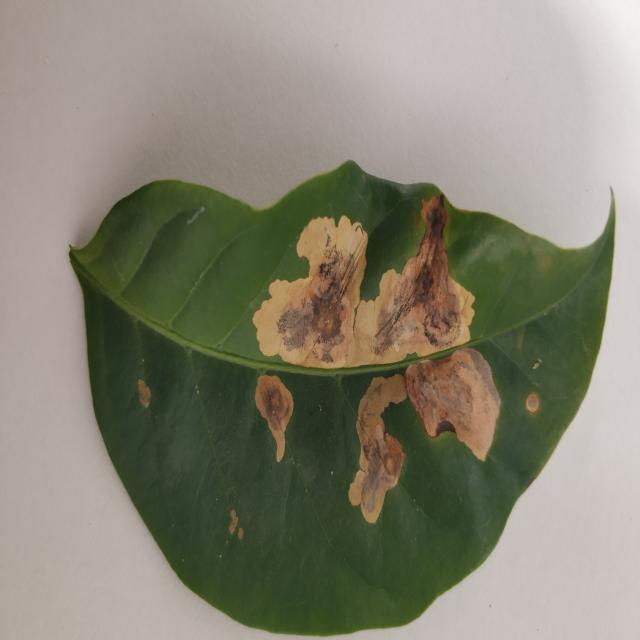Plaga-Minador: (68, 161, 617, 638)
